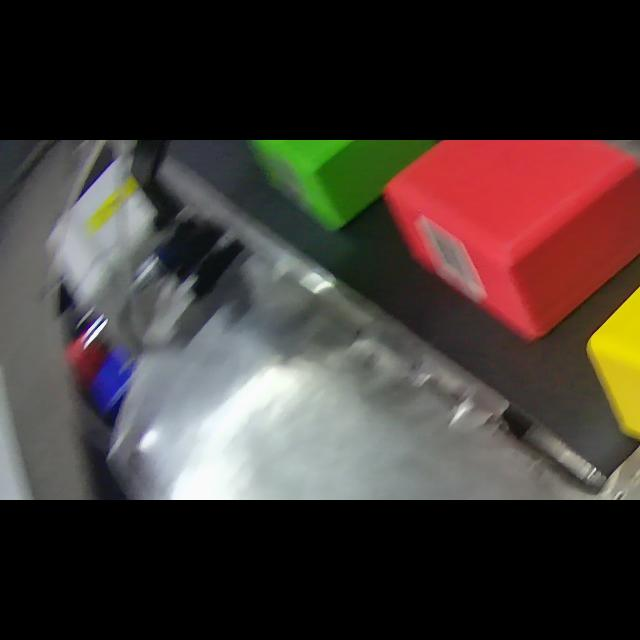greenBox: (243, 140, 444, 240), (586, 216, 640, 500)
redBox: (378, 140, 640, 342)
